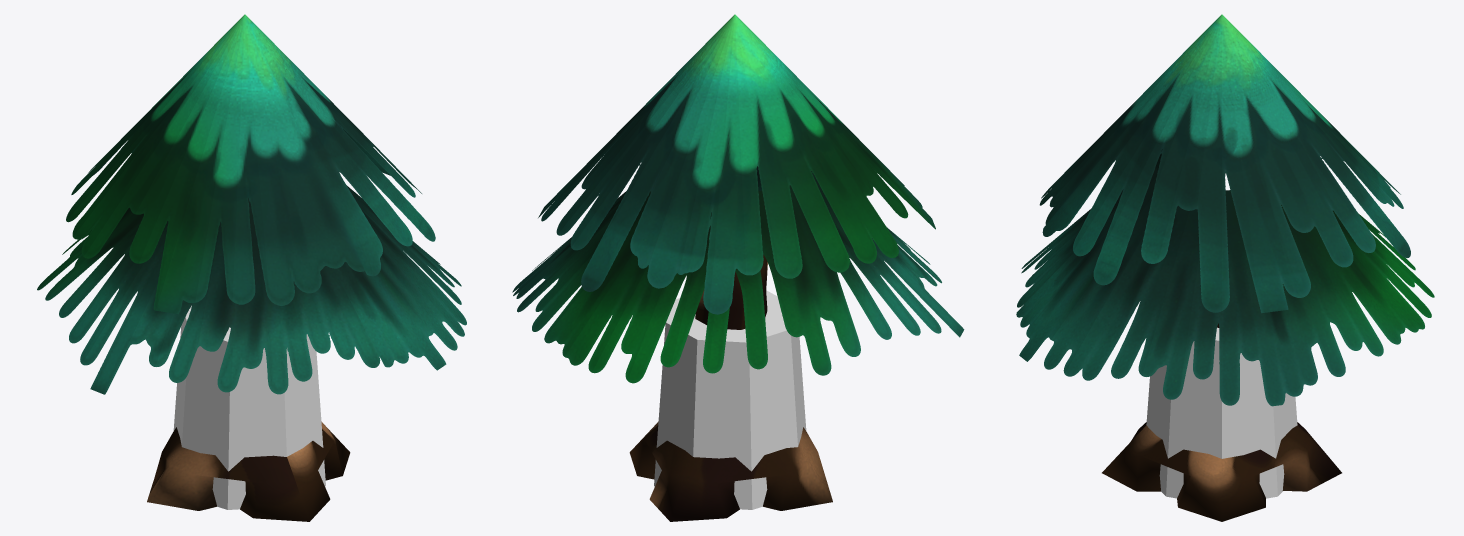
File: pinheiro_muda.glb
The picture shows the model from 3 angles, left to right: view 1: azimuth 30°, elevation 25°; view 2: azimuth 150°, elevation 25°; view 3: azimuth 270°, elevation 25°; orthographic projection.
Parts seen in each view (by area): view 1: sprout.003_9, Colisao.016; view 2: sprout.003_9, Colisao.016; view 3: sprout.003_9, Colisao.016.
Part boxes in pixels (x1,y1,x2,y2): sprout.003_9: (37, 14, 466, 521); Colisao.016: (173, 305, 325, 509); sprout.003_9: (512, 14, 964, 521); Colisao.016: (654, 290, 806, 509); sprout.003_9: (1016, 14, 1434, 521); Colisao.016: (1146, 327, 1297, 498).
Size of the model in its own units: 1.46 by 1.62 by 1.46.
1 material, 1 textured.
